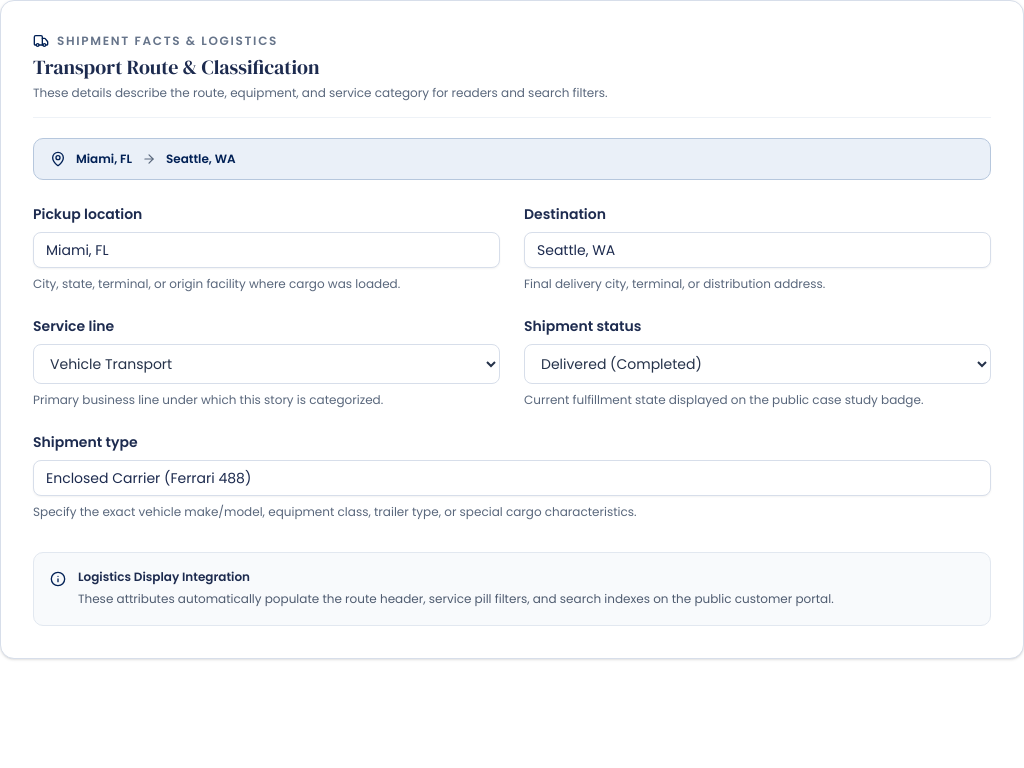
Test case: Empirical Component Stress Testing: NarrativeTab & ShipmentDetailsTab & Skeleton › renders ShipmentDetailsTab and updates live route banner
The image size is (1024, 768).
Expected: the field labelled "Destination" holds "Seattle, WA", [524,232,991,268]
Expected: the heading "Transport Route & Classification" is shown, [33,53,320,81]
Change pickup location
Replace the text in the field labelled "Pickup location" with "Houston, TX" at (266, 250), box [33,232,500,268]
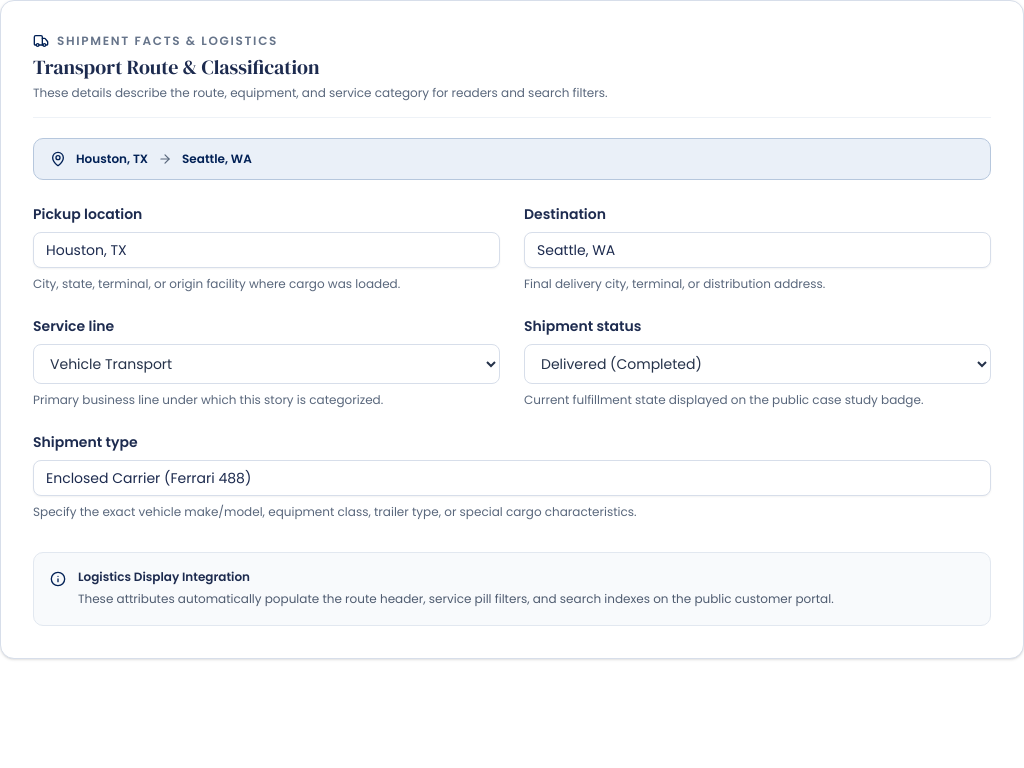
Expected: the text "Houston, TX" is shown, [76,151,148,167]
